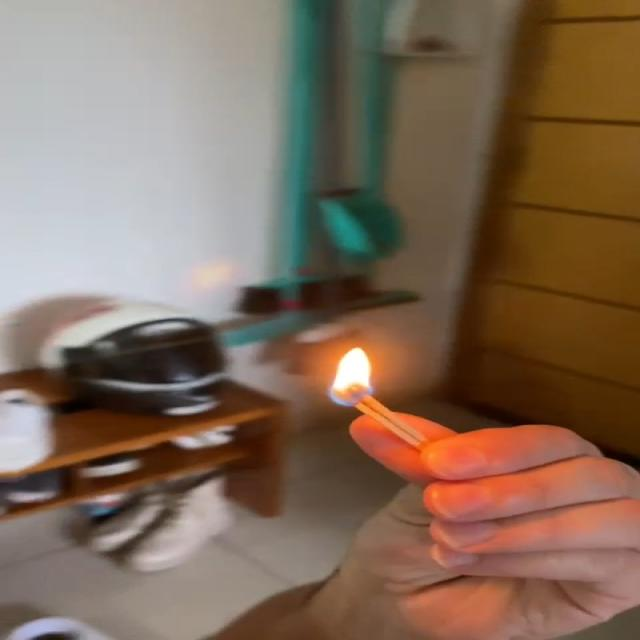fogo-ypXI: (330, 345, 374, 407)
